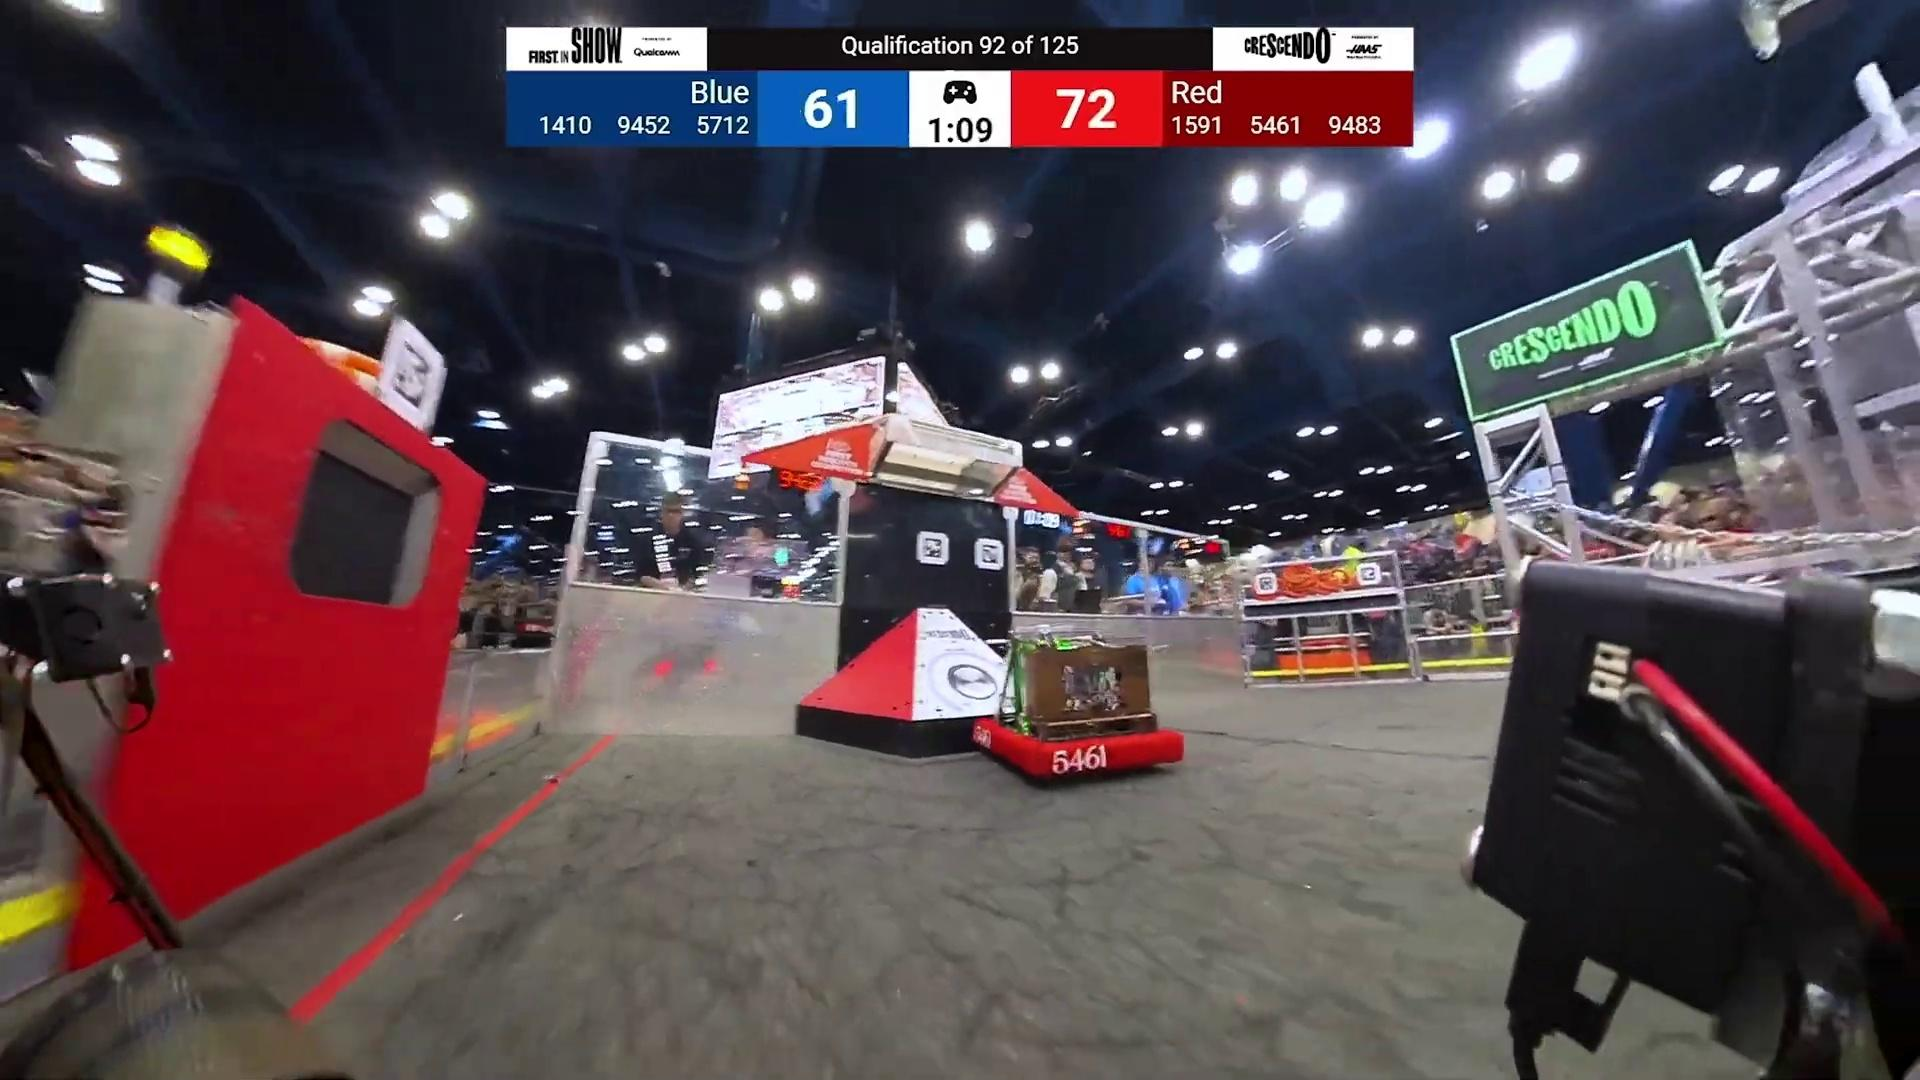robot: (972, 629, 1184, 786)
